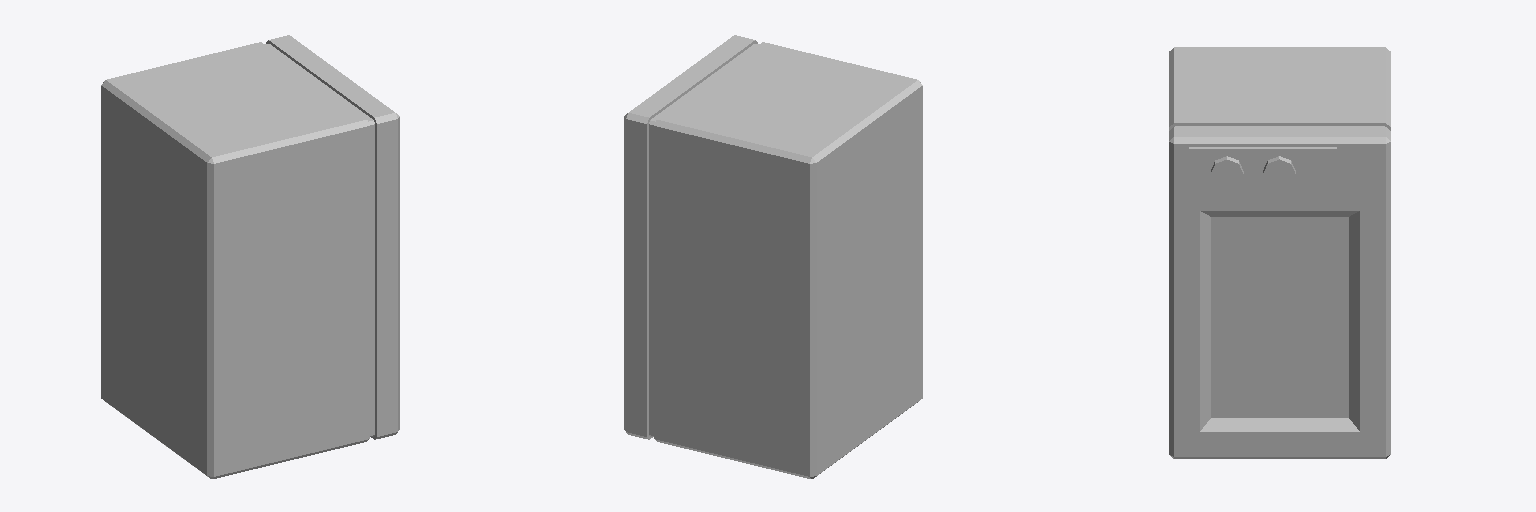
File: microwave.obj
The picture shows the model from 3 angles: view 1: azimuth 30°, elevation 25°; view 2: azimuth 150°, elevation 25°; view 3: azimuth 270°, elevation 25°; orthographic projection.
Visible parts, largest first — view 1: microwave; view 2: microwave; view 3: microwave.
Part boxes in pixels (bbox=[...]): microwave: bbox=[101, 35, 399, 478]; microwave: bbox=[624, 35, 922, 478]; microwave: bbox=[1169, 47, 1390, 458].
Bounding box in the file's own units: 17.13 × 25.95 × 16.22.